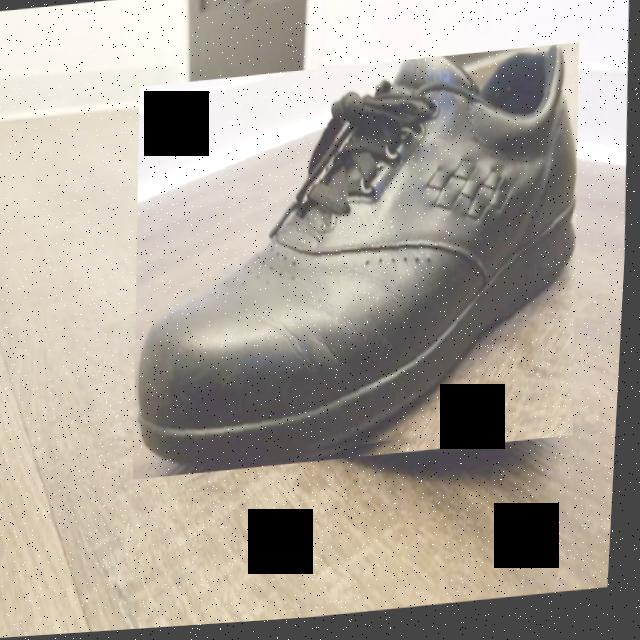shoe: (125, 50, 593, 482)
